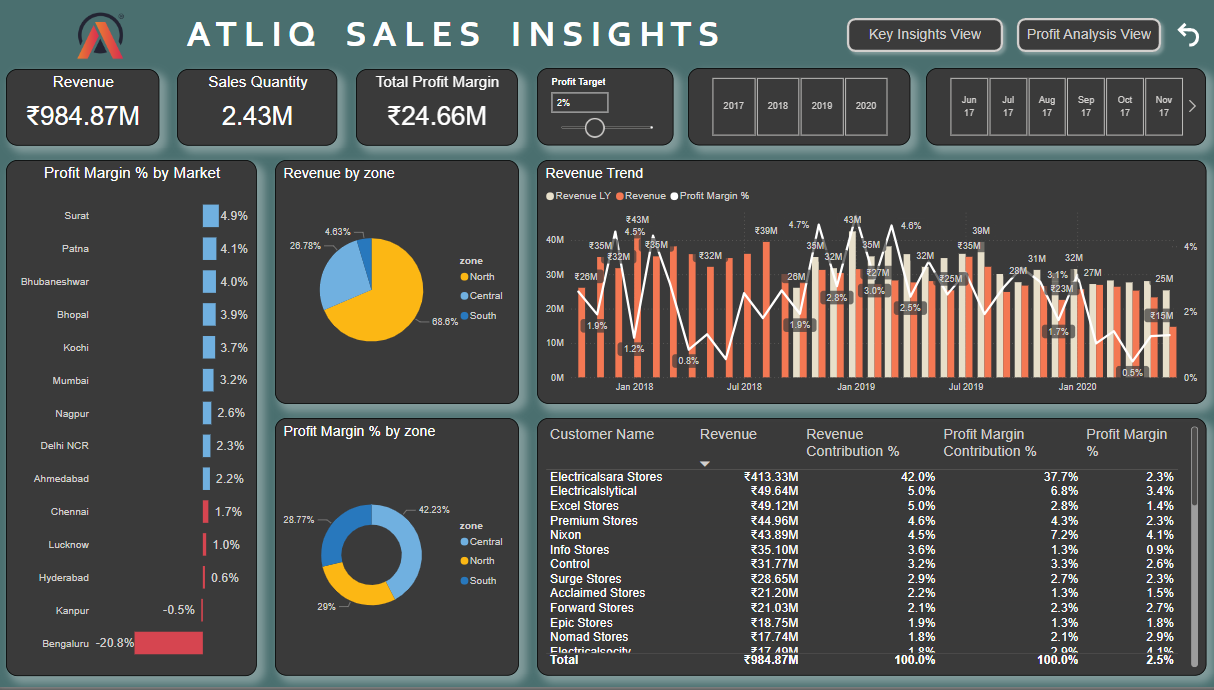

The page's visual inventory and layout, read from the dashboard file:
{"tool":"powerbi","page":{"name":"Performance Insights","canvas":[1600,900],"ordinal":2},"visuals":[{"type":"tableEx","title":"Top 5 Customers","fields":{"Values":["sales customers.custmer_name","BaseMeasures (2).Revenue","BaseMeasures (2).Revenue Contribution %","BaseMeasures (2).Profit Margin Contribution %","BaseMeasures (2).Profit Margin %"]},"box":[707.7,549.4,872.8,336.1],"z":0},{"type":"image","box":[102.7,13.3,73.3,73.3],"z":1000},{"type":"lineClusteredColumnComboChart","title":"Revenue Trend","fields":{"Category":["sales date.cy_date"],"Y":["BaseMeasures (2).Revenue LY","BaseMeasures (2).Revenue"],"Y2":["BaseMeasures (2).Profit Margin %"]},"box":[707.7,212.2,872.8,317.7],"z":2000},{"type":"actionButton","box":[1103.2,18.3,221.7,62.6],"z":3000},{"type":"actionButton","box":[1324.9,18.3,206,62.6],"z":4000},{"type":"slicer","title":"Profit Margin","fields":{"Values":["Profit Target.Profit Target"]},"box":[707.7,92.9,177.8,100.9],"z":5000},{"type":"textbox","box":[102.7,13.3,1000,73.3],"z":6000},{"type":"barChart","title":"Profit Margin %  by Market","fields":{"Y":["BaseMeasures (2).Profit Margin %"],"Category":["sales markets.zone","sales markets.markets_name","sales customers.custmer_name","sales products.product_code"]},"box":[16.1,212.2,326.9,673.3],"z":7000},{"type":"pieChart","fields":{"Y":["BaseMeasures (2).Revenue"],"Category":["sales markets.zone"]},"box":[365.9,212.2,317.7,317.7],"z":8000},{"type":"donutChart","fields":{"Category":["sales markets.zone"],"Y":["BaseMeasures (2).Profit Margin %"]},"box":[365.9,549.4,317.7,336.1],"z":9000},{"type":"card","title":"Revenue","fields":{"Values":["BaseMeasures (2).Revenue"]},"box":[16,93.3,200,100],"z":10000},{"type":"card","title":"Sales Quantity","fields":{"Values":["BaseMeasures (2).Sales Qty"]},"box":[238.7,93.3,209.3,100],"z":11000},{"type":"slicer","fields":{"Values":["sales date.year"]},"box":[904.9,92.9,290.2,100.9],"z":12000},{"type":"slicer","fields":{"Values":["sales date.cy_date"]},"box":[1215.8,92.9,364.7,100.9],"z":13000},{"type":"card","title":"Total Profit Margin","fields":{"Values":["BaseMeasures (2).Total Profit Margin"]},"box":[472,93.3,210.7,100],"z":14000},{"type":"actionButton","box":[1537.4,28.7,43,40.4],"z":15000}]}

Visuals, with their boxes in screenshot pixels (x1, y1, x2, y2), scaled from the page's 1600x900 canvas onto the 1214x690 screenshot:
"Top 5 Customers" tableEx: [537,421,1199,679]
image: [78,10,134,66]
"Revenue Trend" lineClusteredColumnComboChart: [537,163,1199,406]
actionButton: [837,14,1005,62]
actionButton: [1005,14,1162,62]
"Profit Margin" slicer: [537,71,672,149]
textbox: [78,10,837,66]
"Profit Margin %  by Market" barChart: [12,163,260,679]
pieChart - BaseMeasures (2).Revenue x sales markets.zone: [278,163,519,406]
donutChart - sales markets.zone x BaseMeasures (2).Profit Margin %: [278,421,519,679]
"Revenue" card: [12,72,164,148]
"Sales Quantity" card: [181,72,340,148]
slicer - sales date.year: [687,71,907,149]
slicer - sales date.cy_date: [922,71,1199,149]
"Total Profit Margin" card: [358,72,518,148]
actionButton: [1167,22,1199,53]
